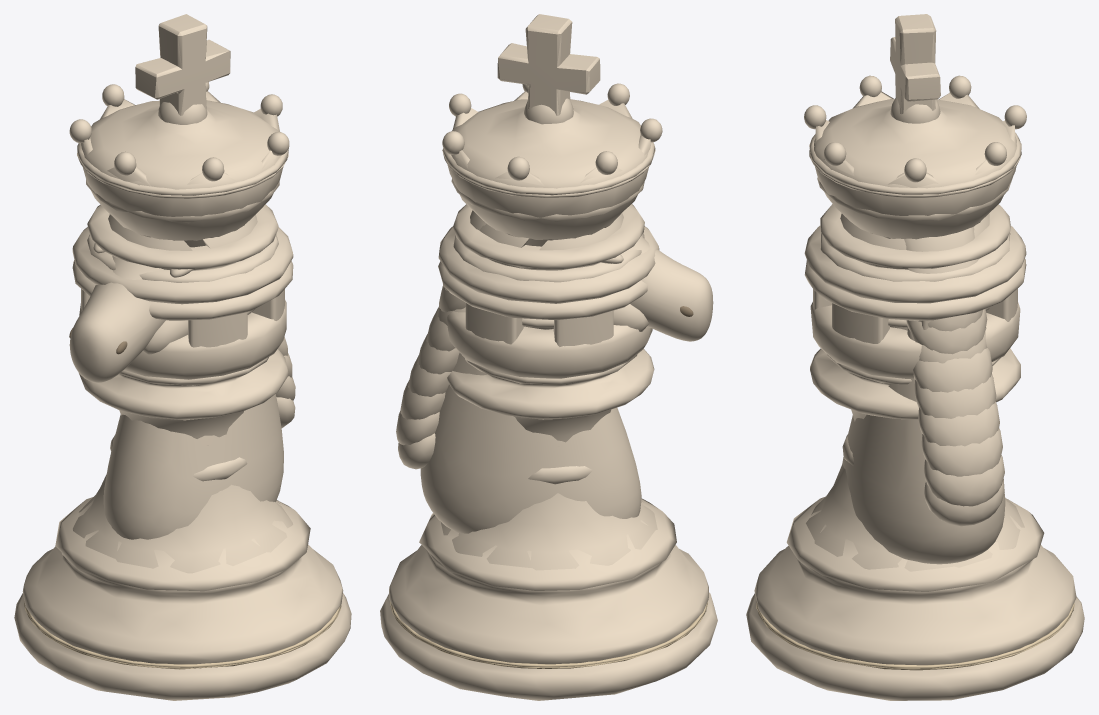
The model's file is staunton.glb.
The picture shows the model from 3 angles, left to right: view 1: azimuth 30°, elevation 25°; view 2: azimuth 150°, elevation 25°; view 3: azimuth 270°, elevation 25°; orthographic projection.
Visible parts, largest first — view 1: k, n, r, q, b, p; view 2: k, n, r, q, b, p; view 3: k, n, r, q, b.
Part boxes in pixels (box(x1,y1,x2,y2)): k: box(14, 14, 351, 700); n: box(69, 243, 295, 539); r: box(55, 289, 310, 591); q: box(69, 82, 293, 320); b: box(108, 214, 257, 314); p: box(110, 435, 247, 481); k: box(380, 14, 717, 700); n: box(396, 210, 713, 533); r: box(419, 291, 676, 590); q: box(438, 83, 662, 320); b: box(479, 213, 623, 329); p: box(528, 446, 592, 484); k: box(746, 14, 1084, 700); n: box(842, 227, 1005, 564); r: box(786, 288, 1044, 591); q: box(804, 75, 1026, 320); b: box(840, 213, 989, 327).
Bounding box in the file's own units: 0.6648 × 1.33 × 0.6648.
